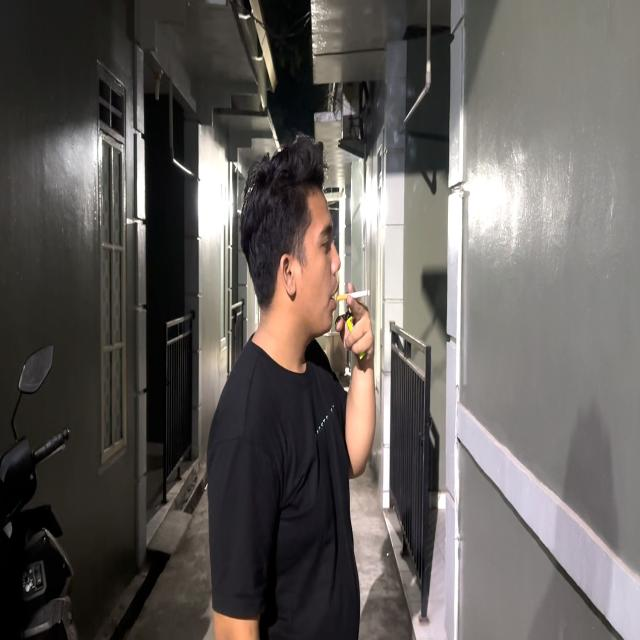cigarette: (336, 290, 370, 302)
smoking: (237, 133, 377, 481)
